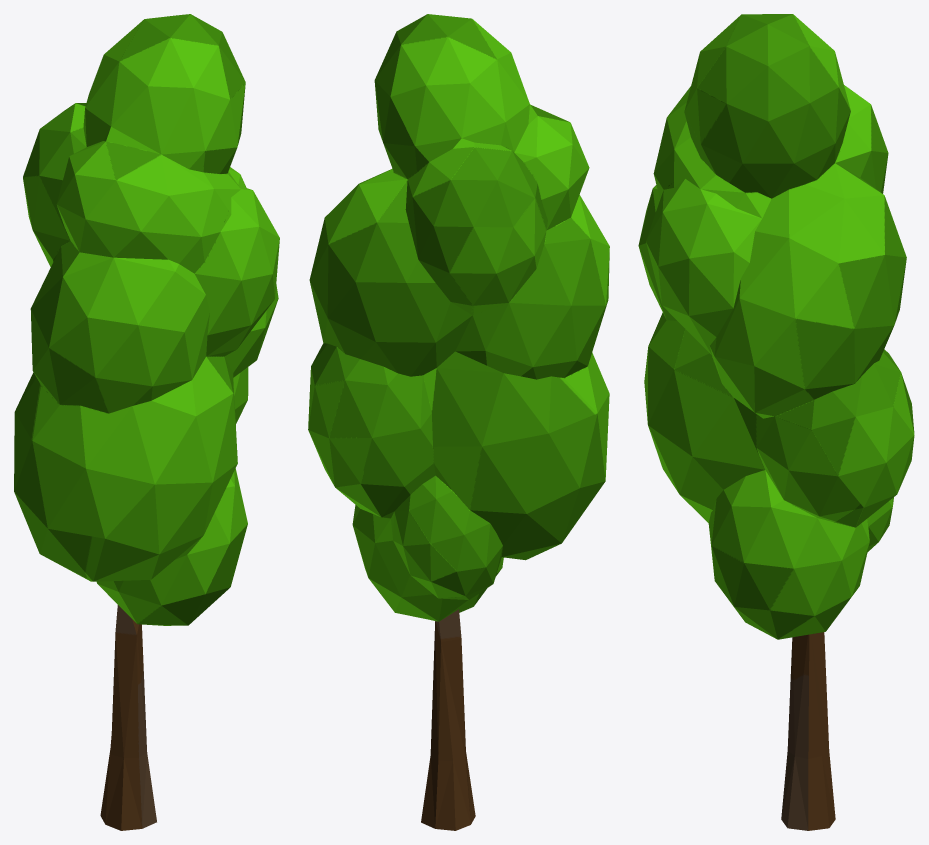
File: _7_tree_Icosphere.002.obj
3 views of the same model, side by side, from view 1: azimuth 30°, elevation 25°; view 2: azimuth 150°, elevation 25°; view 3: azimuth 270°, elevation 25° (orthographic). The views are drawn at different scales.
Parts seen in each view (by area): view 1: _7_tree_Icosphere.002; view 2: _7_tree_Icosphere.002; view 3: _7_tree_Icosphere.002.
Part boxes in pixels (x1,y1,x2,y2): _7_tree_Icosphere.002: [14, 14, 279, 830]; _7_tree_Icosphere.002: [308, 14, 609, 830]; _7_tree_Icosphere.002: [638, 14, 914, 830].
Size of the model in its own units: 0.9204 by 2.78 by 0.8524.
Materials: 1 (1 with a texture image).
